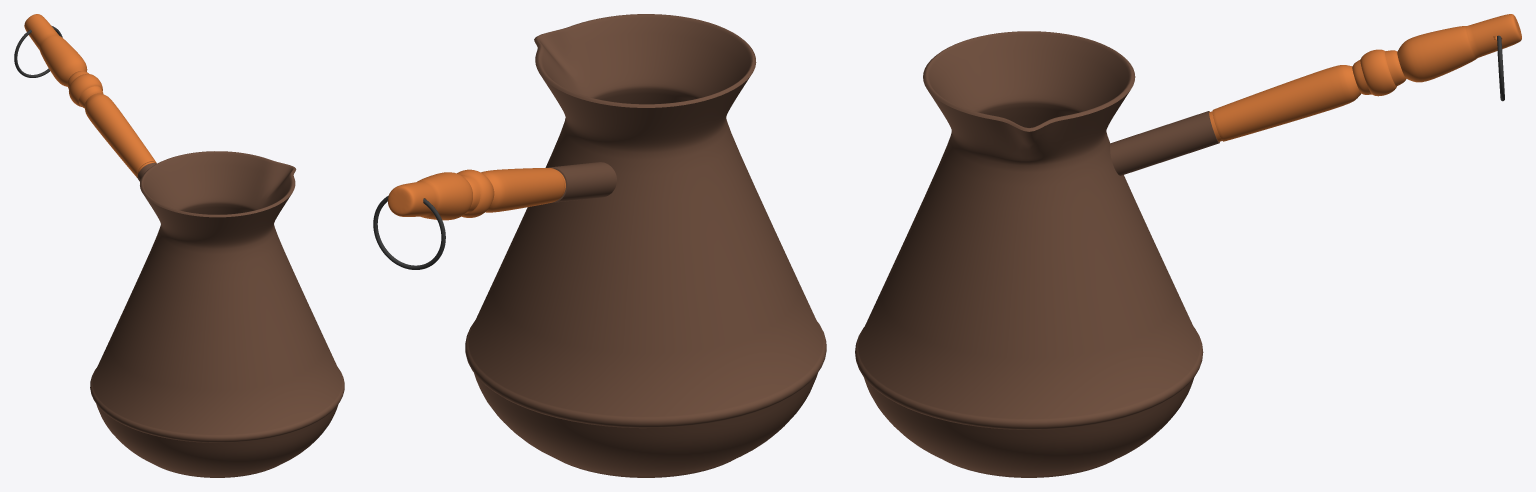
File: obj_coffee_turk_8ae346.glb
3 views of the same model, side by side, from view 1: azimuth 30°, elevation 25°; view 2: azimuth 150°, elevation 25°; view 3: azimuth 270°, elevation 25° (orthographic). The views are drawn at different scales.
Visible parts, largest first — view 1: obj_coffee_turk_8ae346; view 2: obj_coffee_turk_8ae346; view 3: obj_coffee_turk_8ae346.
Boxes of the visible parts, <box> form: obj_coffee_turk_8ae346: <box>14,14,344,477</box>; obj_coffee_turk_8ae346: <box>373,14,826,477</box>; obj_coffee_turk_8ae346: <box>855,14,1521,477</box>.
Bounding box in the file's own units: 0.2435 × 0.32 × 0.4665.
